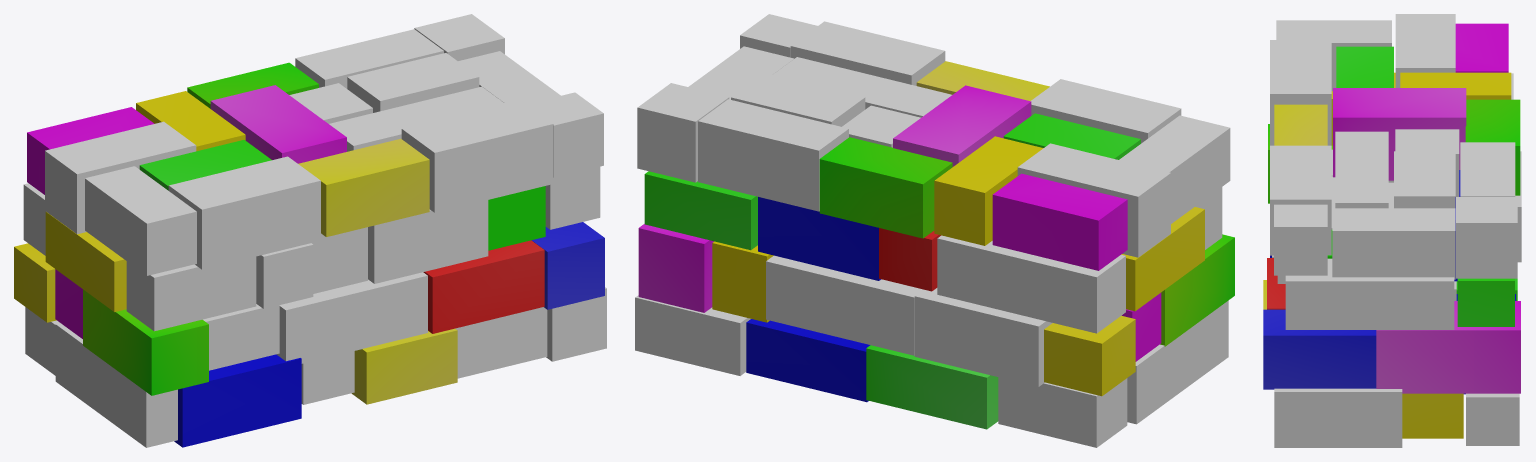
Rendered from Block2.fbx.
3 renders of one model, left to right at view 1: azimuth 30°, elevation 25°; view 2: azimuth 150°, elevation 25°; view 3: azimuth 270°, elevation 25°, orthographic. The views are drawn at different scales.
Visible parts, largest first — view 1: Block2.010_low, Block2.056_low, Block2.034_low, Block2.011_low, Block2.027_low, Block2.021_low, Block2.031_low, Block2.042_low, Block2.047_low, Block2.012_low, Block2.001_low, Block2.015_low (+27 smaller); view 2: Block2_low, Block2.055_low, Block2.038_low, Block2.017_low, Block2.053_low, Block2.022_low, Block2.019_low, Block2.015_low, Block2.054_low, Block2.051_low, Block2.024_low, Block2.035_low (+23 smaller); view 3: Block2.039_low, Block2.044_low, Block2.046_low, Block2.036_low, Block2.040_low, Block2.006_low, Block2.007_low, Block2.056_low, Block2.058_low, Block2.010_low, Block2.002_low, Block2.015_low (+15 smaller).
Boxes of the visible parts, bbox=[...] form: Block2.010_low: bbox=[401, 99, 553, 212]; Block2.056_low: bbox=[168, 156, 320, 269]; Block2.034_low: bbox=[276, 272, 427, 363]; Block2.011_low: bbox=[85, 166, 196, 275]; Block2.027_low: bbox=[298, 138, 429, 236]; Block2.021_low: bbox=[174, 354, 301, 447]; Block2.031_low: bbox=[83, 289, 208, 395]; Block2.042_low: bbox=[423, 240, 544, 333]; Block2.047_low: bbox=[368, 200, 488, 283]; Block2.012_low: bbox=[126, 256, 256, 331]; Block2.001_low: bbox=[55, 323, 177, 447]; Block2.015_low: bbox=[45, 121, 196, 234]; Block2_low: bbox=[937, 235, 1125, 333]; Block2.055_low: bbox=[698, 99, 848, 211]; Block2.038_low: bbox=[766, 255, 923, 355]; Block2.017_low: bbox=[992, 173, 1127, 270]; Block2.053_low: bbox=[819, 137, 952, 238]; Block2.022_low: bbox=[914, 288, 1052, 386]; Block2.019_low: bbox=[866, 345, 998, 429]; Block2.015_low: bbox=[1017, 143, 1170, 257]; Block2.054_low: bbox=[746, 319, 870, 402]; Block2.051_low: bbox=[758, 197, 880, 280]; Block2.024_low: bbox=[998, 377, 1127, 447]; Block2.035_low: bbox=[635, 295, 750, 375]; Block2.039_low: bbox=[1376, 301, 1520, 393]; Block2.044_low: bbox=[1285, 258, 1454, 329]; Block2.046_low: bbox=[1332, 208, 1455, 279]; Block2.036_low: bbox=[1274, 388, 1402, 447]; Block2.040_low: bbox=[1263, 309, 1376, 389]; Block2.006_low: bbox=[1333, 88, 1466, 180]; Block2.007_low: bbox=[1456, 197, 1517, 278]; Block2.056_low: bbox=[1270, 40, 1331, 145]; Block2.058_low: bbox=[1335, 131, 1388, 208]; Block2.010_low: bbox=[1270, 145, 1331, 255]; Block2.002_low: bbox=[1274, 204, 1327, 275]; Block2.015_low: bbox=[1395, 14, 1455, 87].
Bounding box in the file's own units: 2.01 × 1.01 × 1.04.
